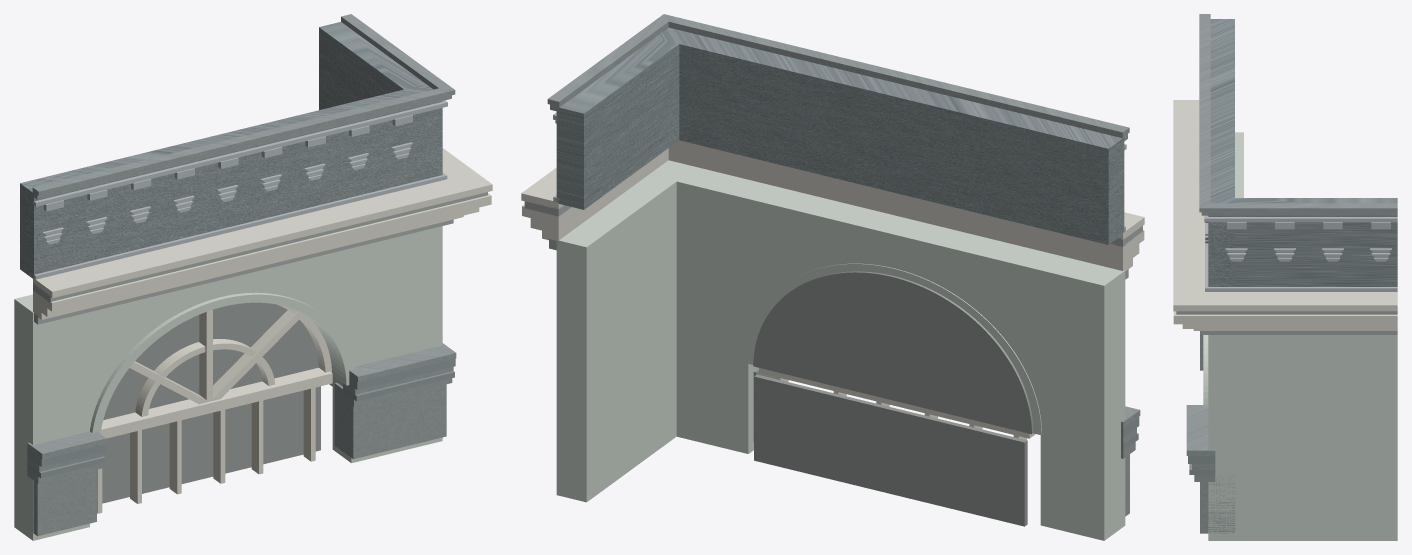
File: yanqing-42-fanlight-and-returning-frieze-near.glb
3 views of the same model, side by side, from view 1: azimuth 30°, elevation 25°; view 2: azimuth 150°, elevation 25°; view 3: azimuth 270°, elevation 25° (orthographic). The views are drawn at different scales.
Parts seen in each view (by area): view 1: 延庆路42号住宅扇窗与转角灰饰腰线; view 2: 延庆路42号住宅扇窗与转角灰饰腰线; view 3: 延庆路42号住宅扇窗与转角灰饰腰线.
Boxes of the visible parts, x1,y1,x2,y2 form: 延庆路42号住宅扇窗与转角灰饰腰线: (14,14,492,540); 延庆路42号住宅扇窗与转角灰饰腰线: (521,14,1144,540); 延庆路42号住宅扇窗与转角灰饰腰线: (1173,14,1397,540).
Bounding box in the file's own units: 2.4 × 1.82 × 1.1.
Materials: 9 (2 with a texture image).
